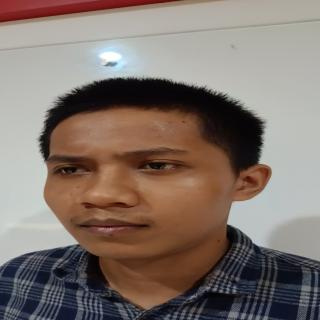Marah: (37, 103, 242, 263)
